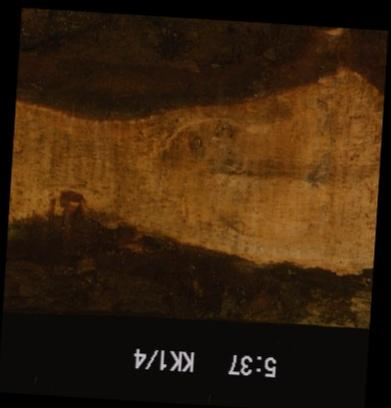dry_knot: (190, 133, 202, 150)
wave: (5, 197, 371, 325), (17, 18, 383, 127)
